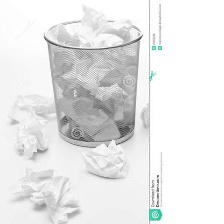book: (50, 3, 136, 141), (6, 161, 81, 224), (78, 136, 135, 179), (12, 111, 56, 159), (4, 90, 61, 123), (137, 97, 149, 130)
